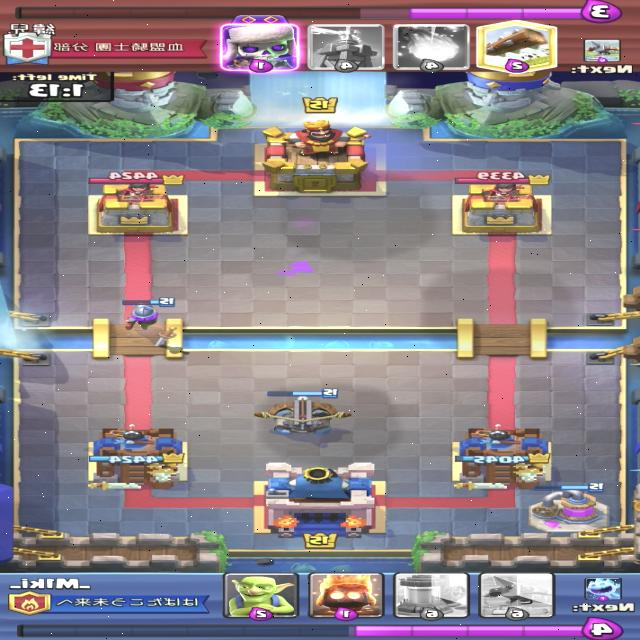Player-ElixirPump: (526, 483, 611, 534)
Player-Musketeer: (123, 297, 175, 332)
Player-XBow: (251, 389, 353, 435)
